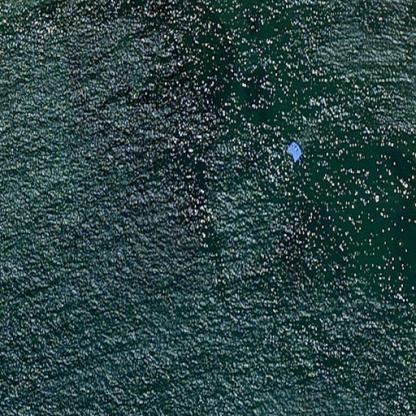ship: (278, 130, 307, 167)
